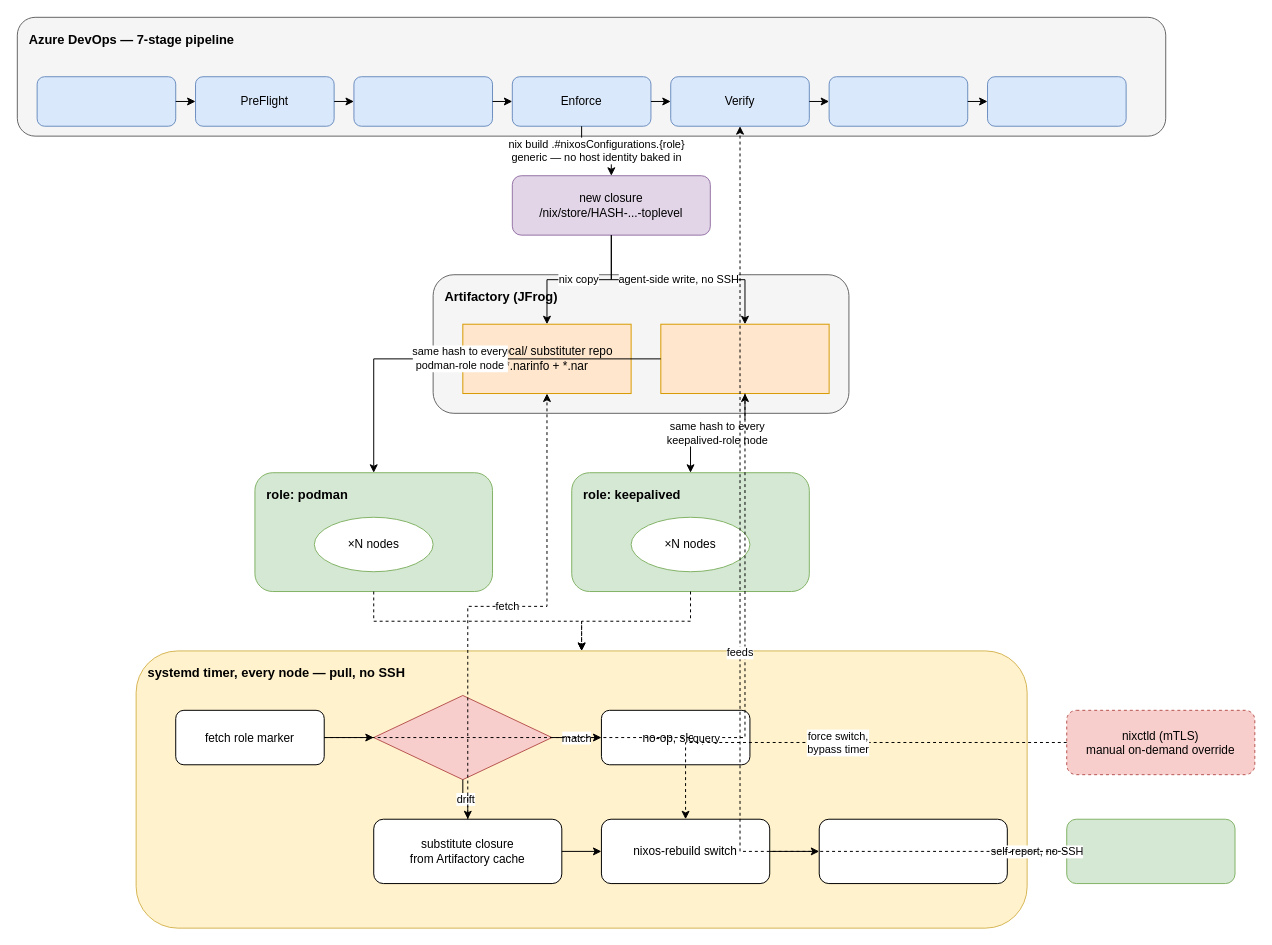
Image size: 1272x945. Some labels were removed from this diagram. The shapes that lost their labels are listed below. From the top down, each one's centre as x and y in pixels, then its label:
At (106,101): "Validate".
At (423,101): "PreScripts".
At (898,101): "Report".
At (1056,101): "Rollback".
At (744,358): "roles/{role}/marker = ONE store-path hash".
At (462,737): "/run/current-system == marker hash?".
At (912,851): "inject hostname / static IP from vCenter guestinfo".
At (1150,851): "OTel / Prometheus".
